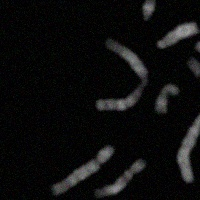chromosome: (95, 38, 148, 111), (53, 145, 115, 194), (94, 159, 146, 199), (176, 108, 200, 181), (157, 22, 200, 50), (154, 84, 181, 112), (185, 56, 200, 77), (142, 0, 156, 22), (196, 40, 200, 91)
